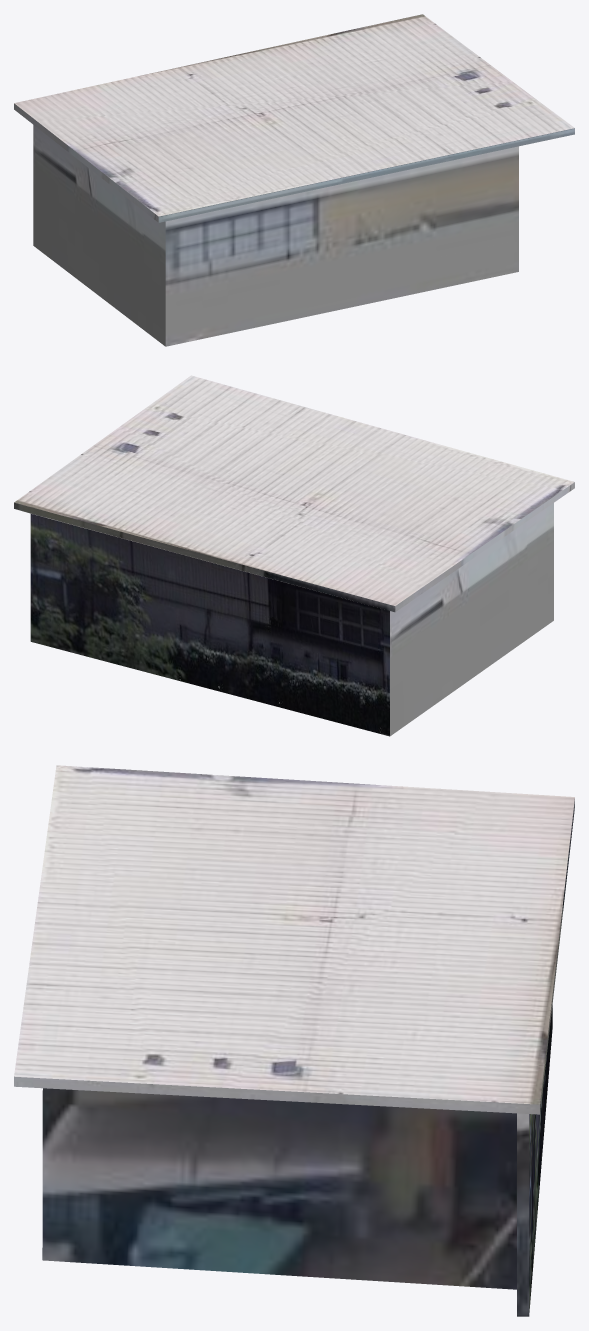
3 renders of one model, top to bottom at view 1: azimuth 30°, elevation 25°; view 2: azimuth 150°, elevation 25°; view 3: azimuth 270°, elevation 25°, orthographic. The views are drawn at different scales.
Parts seen in each view (by area): view 1: B281584041501062A0; view 2: B281584041501062A0; view 3: B281584041501062A0.
Part boxes in pixels (x1=…): B281584041501062A0: x1=14, y1=14, x2=574, y2=346; B281584041501062A0: x1=14, y1=375, x2=574, y2=736; B281584041501062A0: x1=14, y1=765, x2=574, y2=1316.
Size of the model in its own units: 13.39 by 4.65 by 9.85.
Materials: 1 (1 with a texture image).
